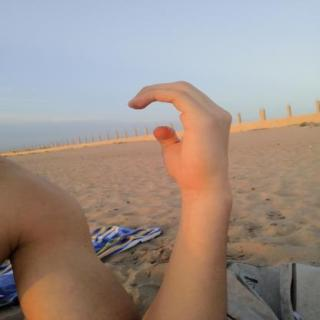JEEM: (115, 73, 242, 190)
